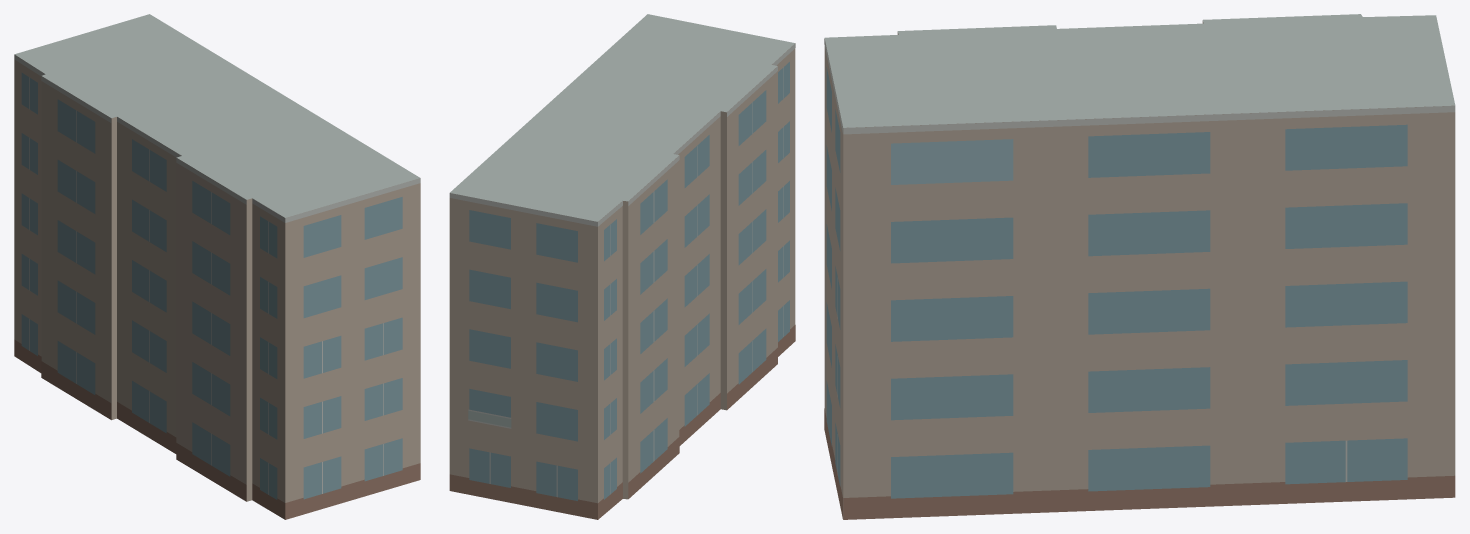
File: survey-upis-32663110.glb
The picture shows the model from 3 angles, left to right: view 1: azimuth 30°, elevation 25°; view 2: azimuth 150°, elevation 25°; view 3: azimuth 270°, elevation 25°; orthographic projection. The views are drawn at different scales.
Parts seen in each view (by area): view 1: survey-upis-32663110.tmp; view 2: survey-upis-32663110.tmp; view 3: survey-upis-32663110.tmp.
Boxes of the visible parts, x1,y1,x2,y2 form: survey-upis-32663110.tmp: (14,14,420,519); survey-upis-32663110.tmp: (449,14,795,519); survey-upis-32663110.tmp: (824,14,1455,519).
Size of the model in its own units: 9.11 by 14.6 by 21.31.
